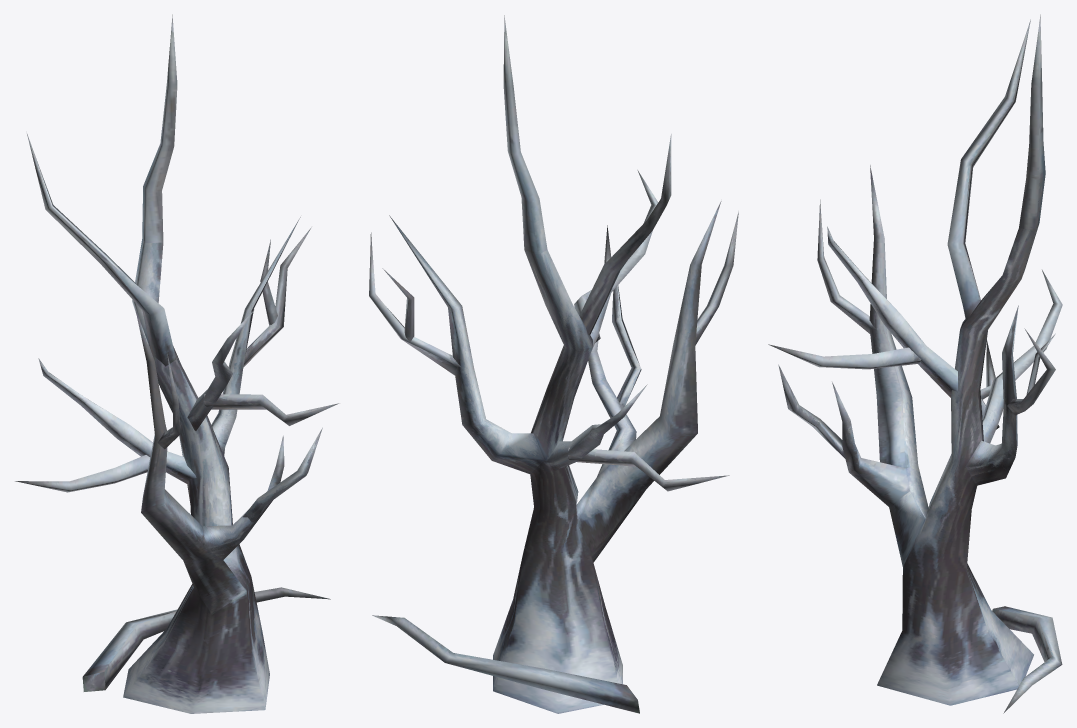
The model's file is SM_Dead_tree_07.fbx.
3 views of the same model, side by side, from view 1: azimuth 30°, elevation 25°; view 2: azimuth 150°, elevation 25°; view 3: azimuth 270°, elevation 25° (orthographic). The views are drawn at different scales.
Visible parts, largest first — view 1: SM_Dead_tree_07; view 2: SM_Dead_tree_07; view 3: SM_Dead_tree_07.
Part boxes in pixels (x1,y1,x2,y2): SM_Dead_tree_07: (15, 14, 339, 713); SM_Dead_tree_07: (369, 15, 738, 713); SM_Dead_tree_07: (768, 14, 1062, 713).
Bounding box in the file's own units: 3.62 × 6.82 × 2.75.
